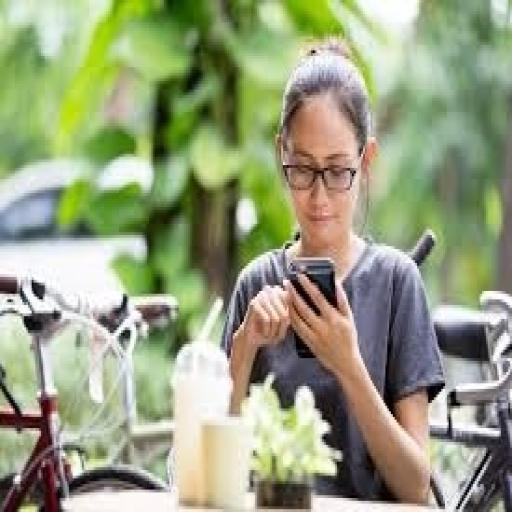texting: (218, 36, 447, 504)
